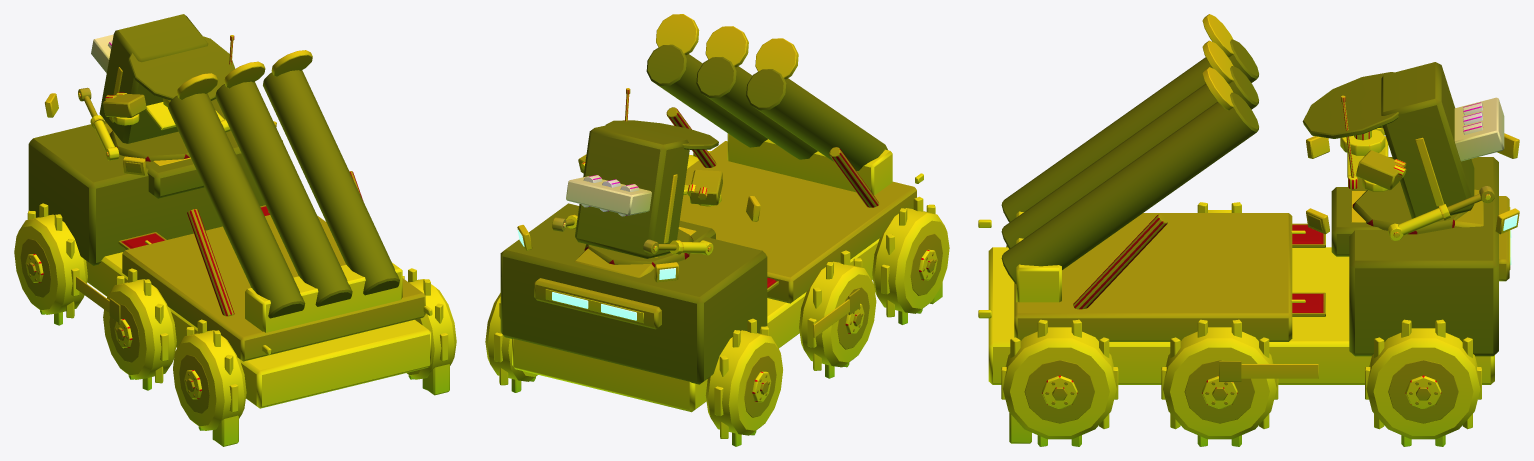
File: SkyguardSAM.fbx
3 views of the same model, side by side, from view 1: azimuth 30°, elevation 25°; view 2: azimuth 150°, elevation 25°; view 3: azimuth 270°, elevation 25° (orthographic). The views are drawn at different scales.
Visible parts, largest first — view 1: SkyguardSAM_SkyguardSAM_PrimaryArmor, SkyguardSAM_SkyguardSAM_Gunmetal, SkyguardSAM_SkyguardSAM_Tread, SkyguardSAM_SkyguardSAM_LightArmor, SkyguardSAM_SkyguardSAM_WheelRim, SkyguardSAM_SkyguardSAM_Warning, SkyguardSAMTurret_BaseShell; view 2: SkyguardSAM_SkyguardSAM_PrimaryArmor, SkyguardSAM_SkyguardSAM_LightArmor, SkyguardSAM_SkyguardSAM_Tread, SkyguardSAM_SkyguardSAM_Gunmetal, SkyguardSAM_SkyguardSAM_Warning, SkyguardSAM_SkyguardSAM_WheelRim, SkyguardSAMTurret_BaseShell, SkyguardSAM_SkyguardSAM_Emissive; view 3: SkyguardSAM_SkyguardSAM_PrimaryArmor, SkyguardSAM_SkyguardSAM_LightArmor, SkyguardSAM_SkyguardSAM_Tread, SkyguardSAM_SkyguardSAM_Gunmetal, SkyguardSAM_SkyguardSAM_WheelRim, SkyguardSAM_SkyguardSAM_Warning, SkyguardSAMTurret_BaseShell.
Part boxes in pixels (<box>): SkyguardSAM_SkyguardSAM_PrimaryArmor: <box>28,14,399,318</box>; SkyguardSAM_SkyguardSAM_Gunmetal: <box>25,34,449,446</box>; SkyguardSAM_SkyguardSAM_Tread: <box>14,92,456,440</box>; SkyguardSAM_SkyguardSAM_LightArmor: <box>103,94,425,361</box>; SkyguardSAM_SkyguardSAM_WheelRim: <box>20,87,363,413</box>; SkyguardSAM_SkyguardSAM_Warning: <box>45,50,312,312</box>; SkyguardSAMTurret_BaseShell: <box>109,130,190,161</box>; SkyguardSAM_SkyguardSAM_PrimaryArmor: <box>500,44,887,384</box>; SkyguardSAM_SkyguardSAM_LightArmor: <box>534,141,916,329</box>; SkyguardSAM_SkyguardSAM_Tread: <box>485,151,949,446</box>; SkyguardSAM_SkyguardSAM_Gunmetal: <box>512,133,942,412</box>; SkyguardSAM_SkyguardSAM_Warning: <box>517,14,849,337</box>; SkyguardSAM_SkyguardSAM_WheelRim: <box>552,107,942,417</box>; SkyguardSAMTurret_BaseShell: <box>584,229,693,267</box>; SkyguardSAM_SkyguardSAM_Emissive: <box>517,230,675,320</box>; SkyguardSAM_SkyguardSAM_PrimaryArmor: <box>1001,39,1498,356</box>; SkyguardSAM_SkyguardSAM_LightArmor: <box>1014,126,1509,381</box>; SkyguardSAM_SkyguardSAM_Tread: <box>1001,194,1491,446</box>; SkyguardSAM_SkyguardSAM_Gunmetal: <box>978,97,1510,443</box>; SkyguardSAM_SkyguardSAM_WheelRim: <box>1024,186,1494,423</box>; SkyguardSAM_SkyguardSAM_Warning: <box>1202,14,1519,378</box>; SkyguardSAMTurret_BaseShell: <box>1352,181,1467,234</box>.
Size of the model in its own units: 234 by 266 by 380.
